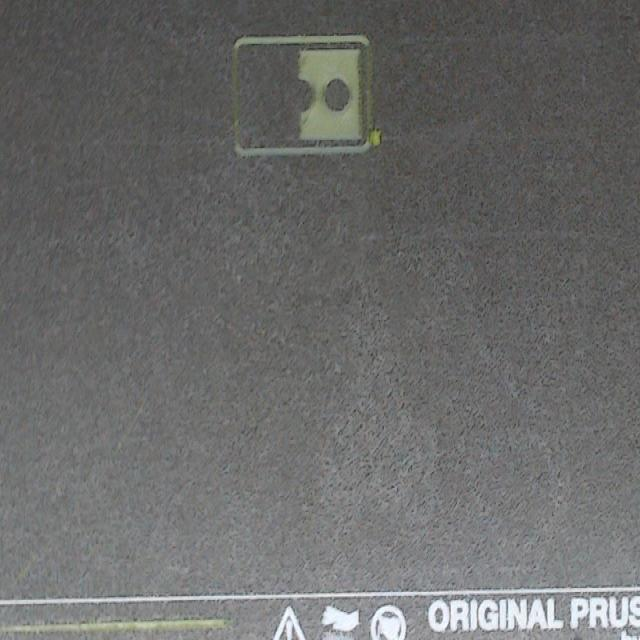mistake: (371, 129, 380, 145)
